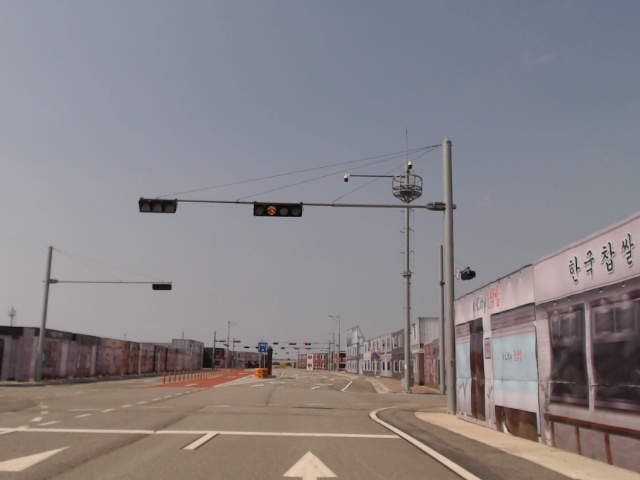orange_4: (252, 200, 302, 218)
